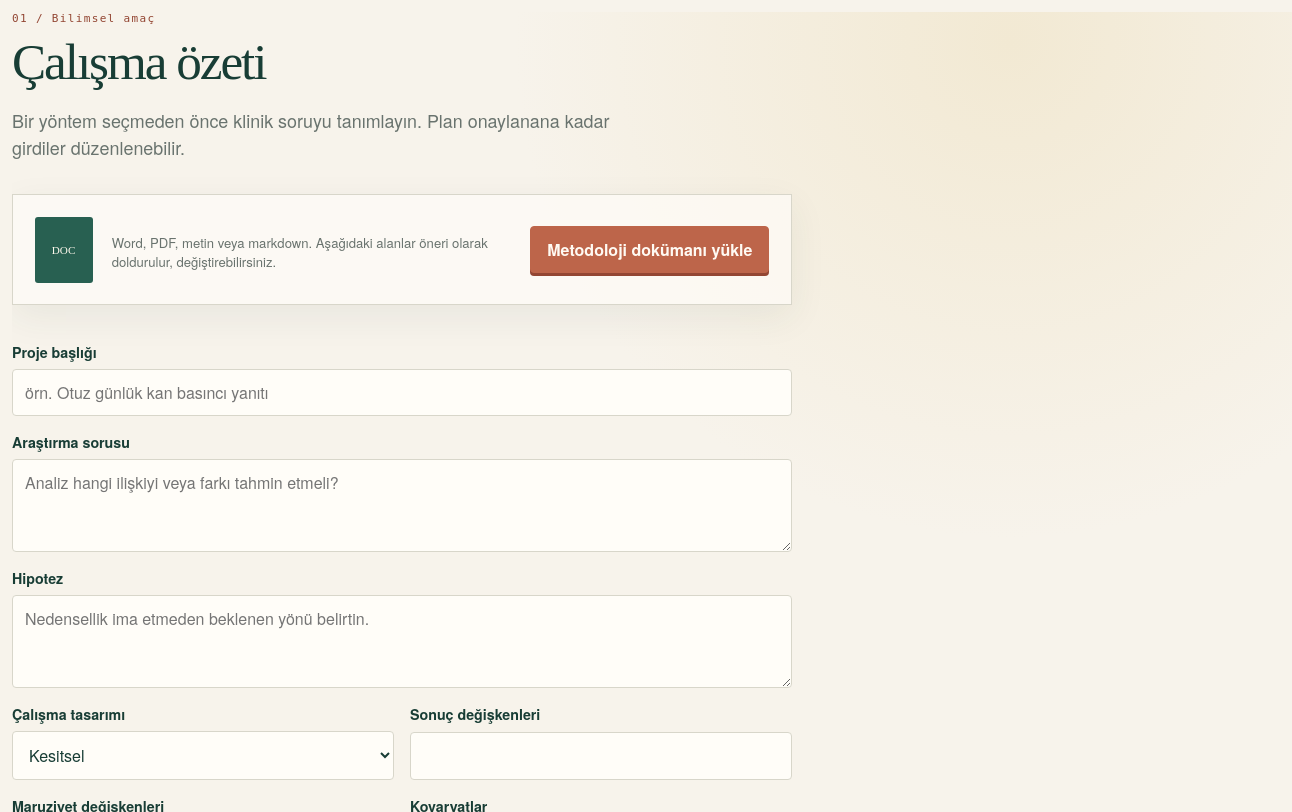
Test: applies the proposed design and shows its evidence, using only the bare filename
Click the button "Metodoloji dokümanı yükle" at point(650, 250), box [530,226,769,273]
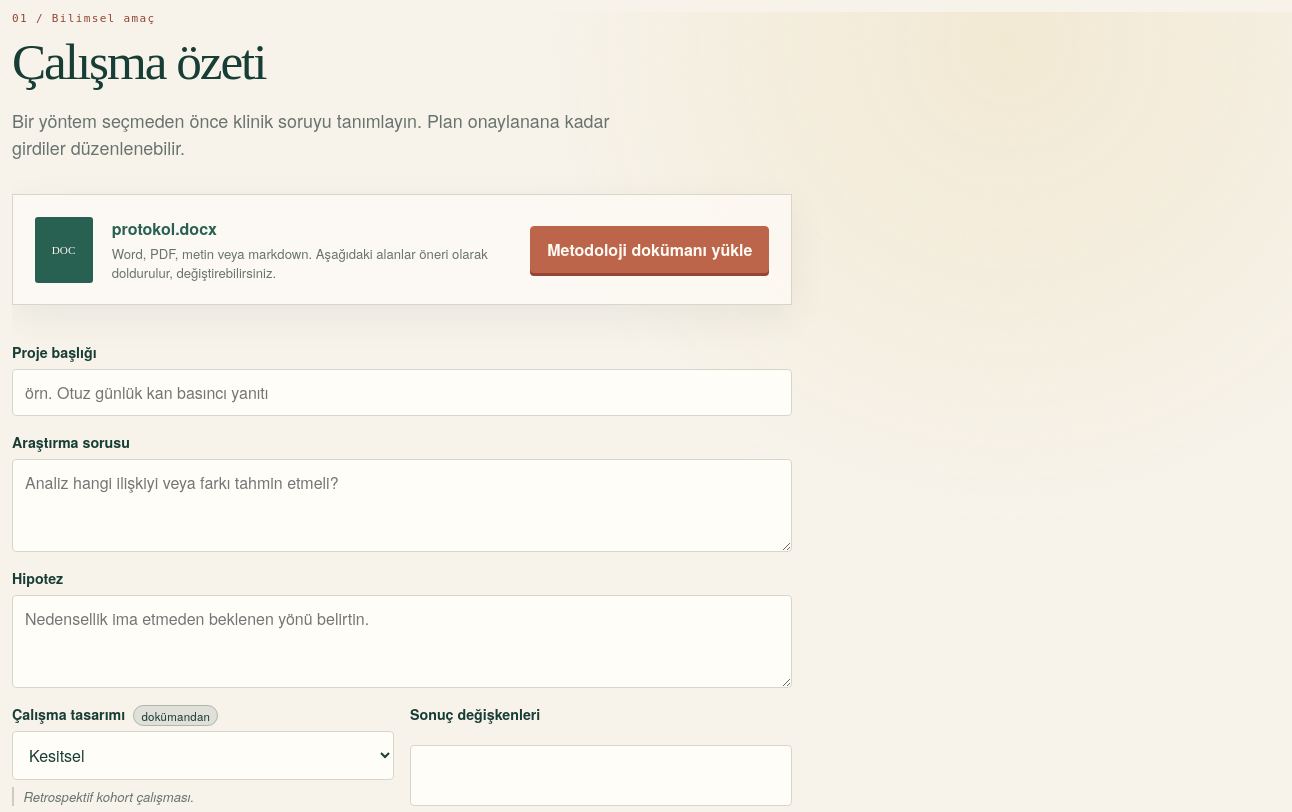
Expected: the text "protokol.docx" is shown, [112,217,217,240]
Expected: the text "Retrospektif kohort çalışması." is shown, [12,787,394,806]
